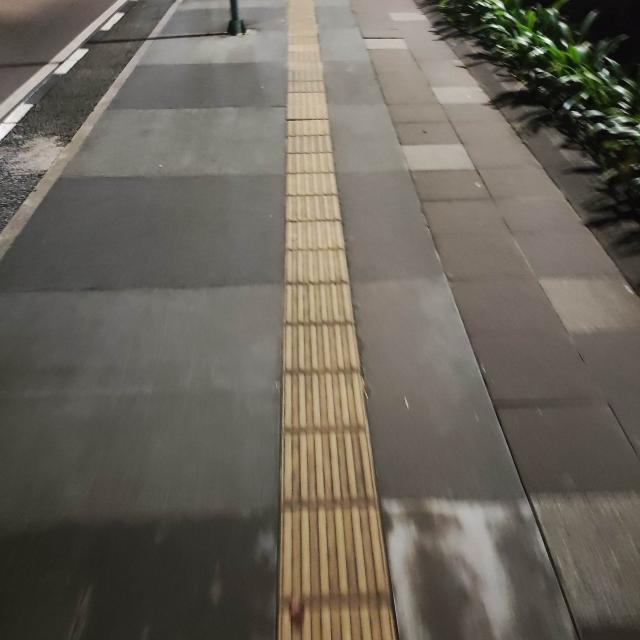lurus: (278, 0, 379, 640)
